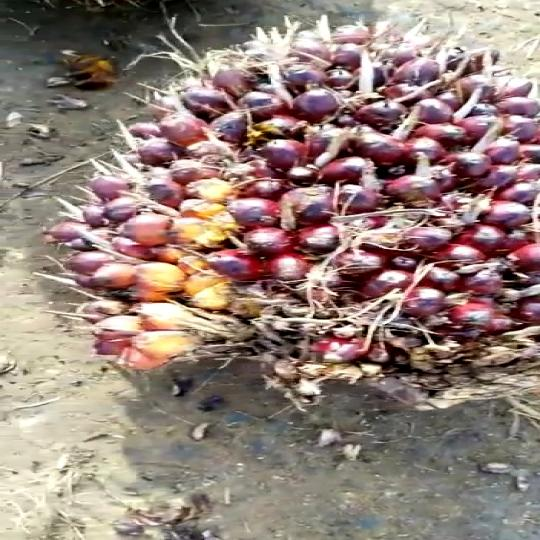kurang masak: (53, 25, 540, 422)
